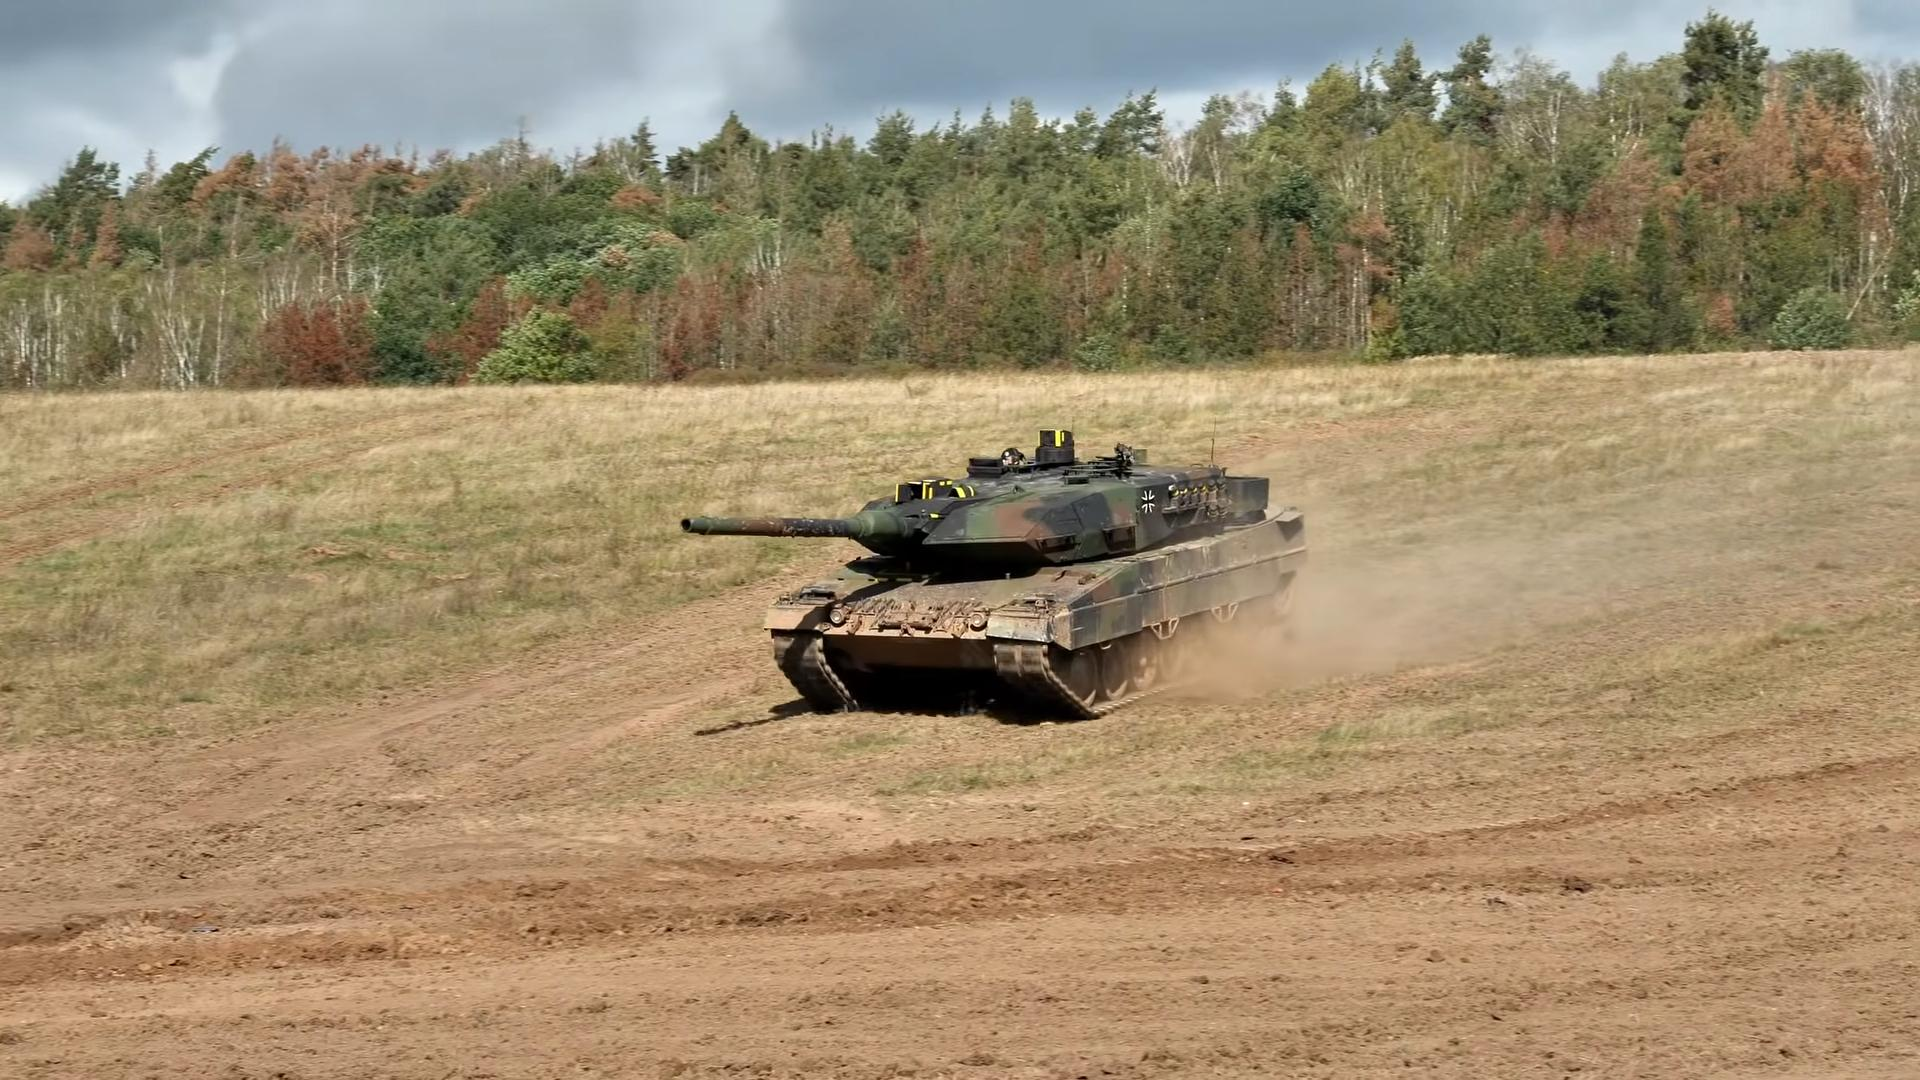tank: (683, 430, 1306, 717)
